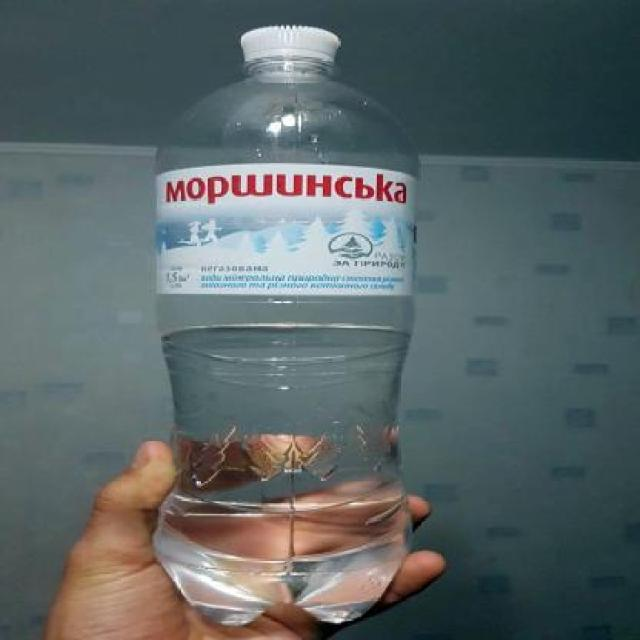bottle: (129, 19, 462, 632)
